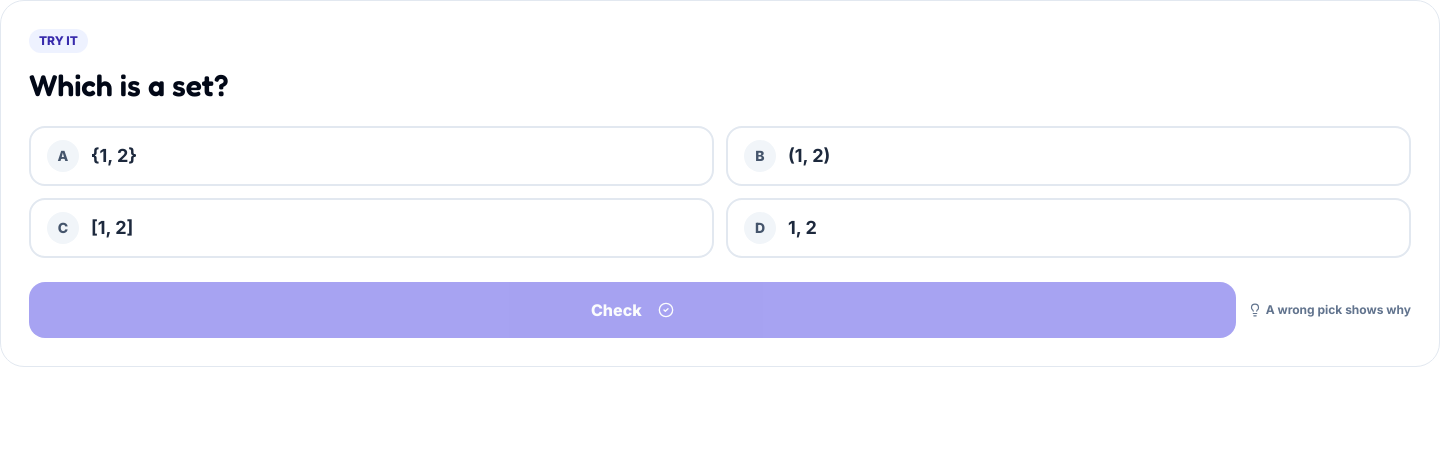
Test case: LessonPractice › explains a wrong pick, lets the student retry, and opens the next step on a right one
The image size is (1440, 470).
Check: the button "Check" is disabled, box [29,282,1236,338]
Click the button "B (1, 2)" at point(760, 156), box [726,126,1411,186]
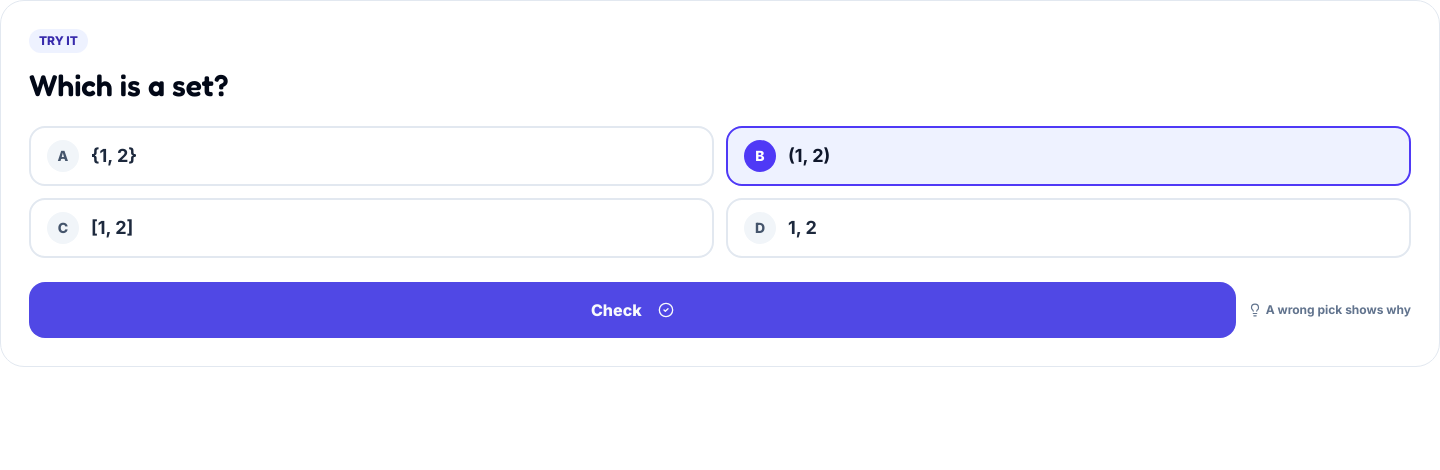
Click the button "Check" at point(632, 310), box [29,282,1236,338]
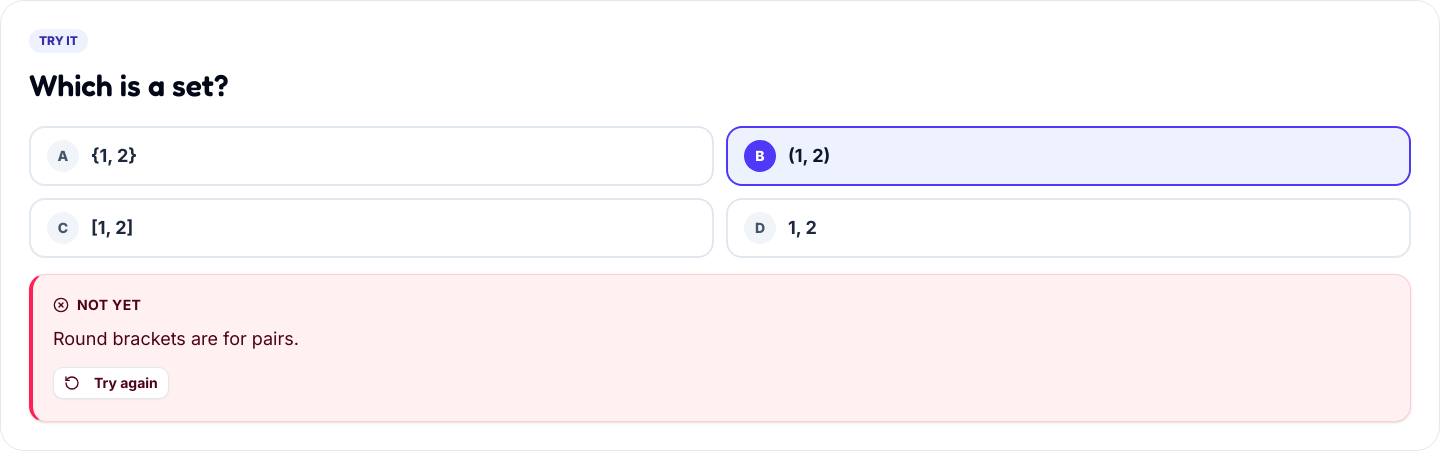
Check: the button "Next" is not shown
Check: the text "Round brackets are for pairs." is shown, box [53,328,299,349]
Click the button "Try again" at point(111, 383), box [53,367,169,399]
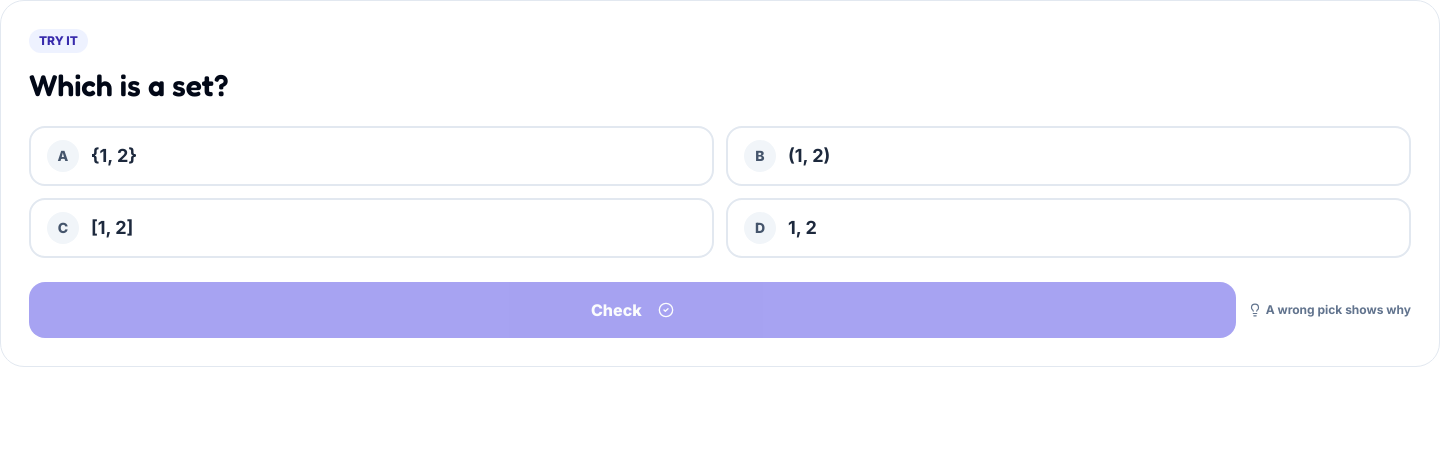
Click the button "A {1, 2}" at point(63, 156), box [29,126,714,186]
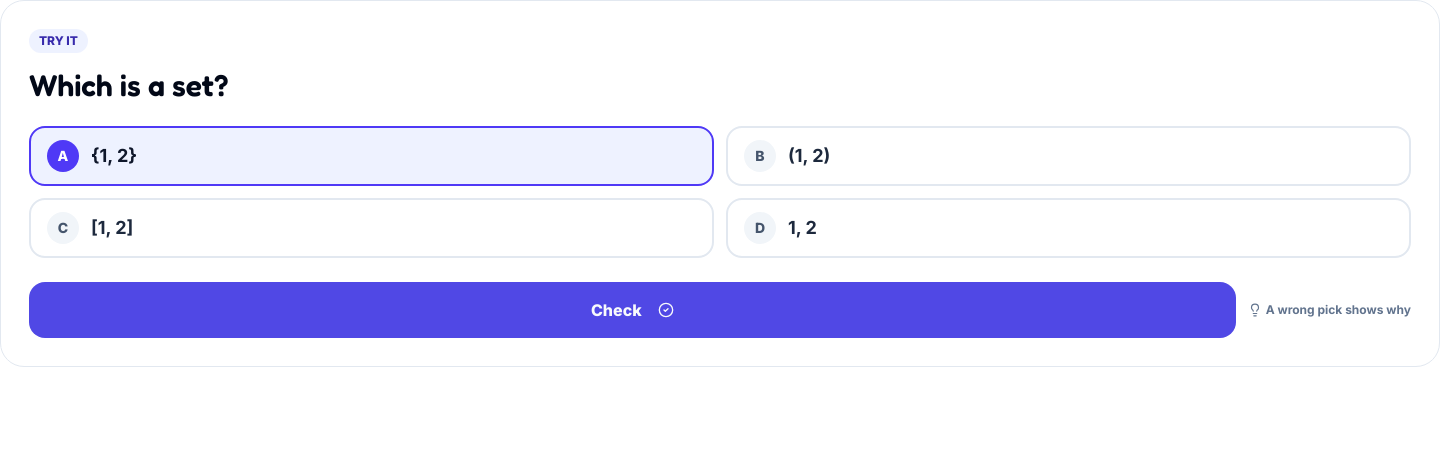
Click the button "Check" at point(632, 310), box [29,282,1236,338]
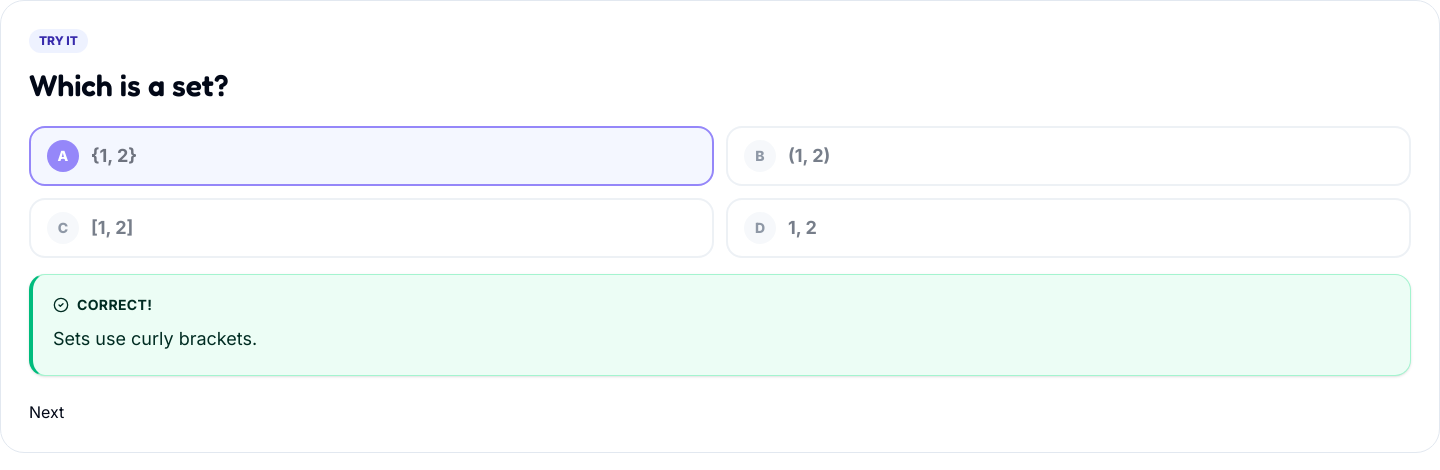
Check: the text "Sets use curly brackets." is shown, box [53,328,257,349]
Check: the button "Next" is shown, box [29,400,64,424]
